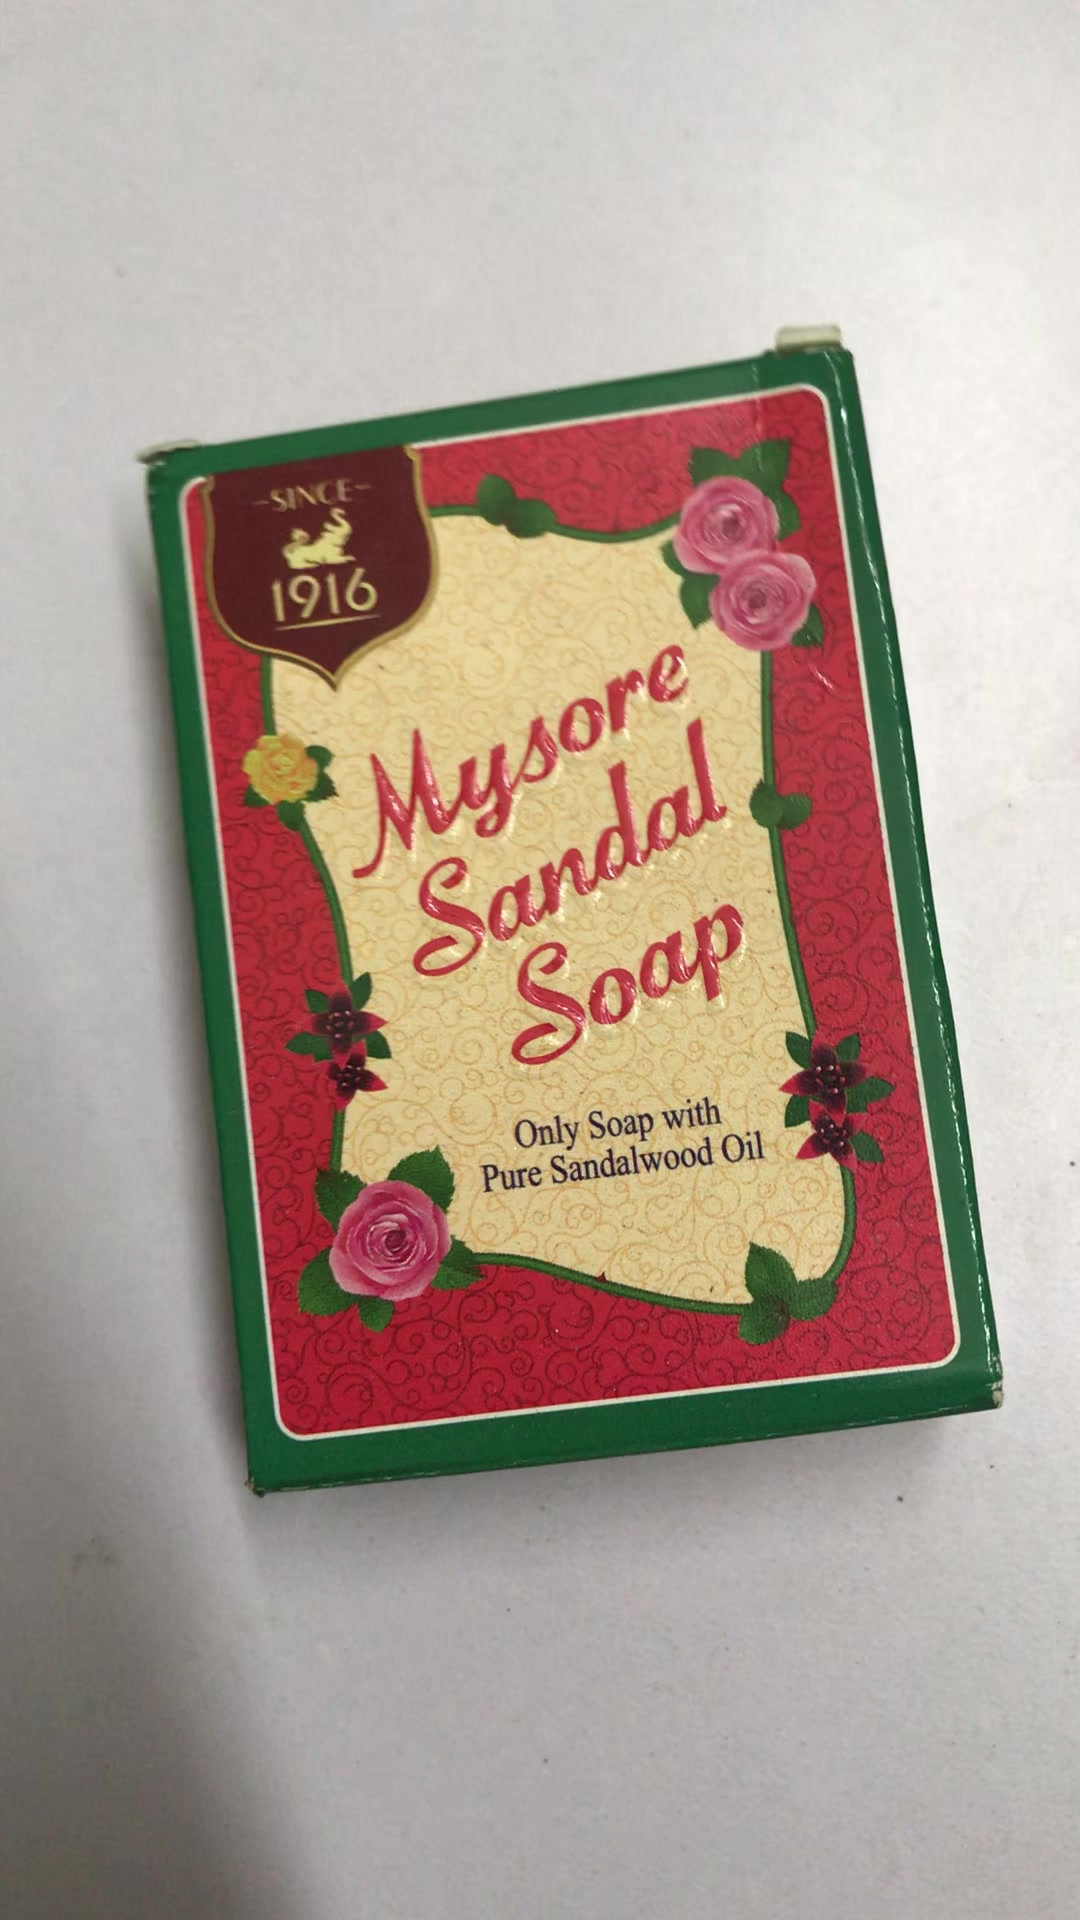mysore sandal soap: (157, 344, 1001, 1494)
